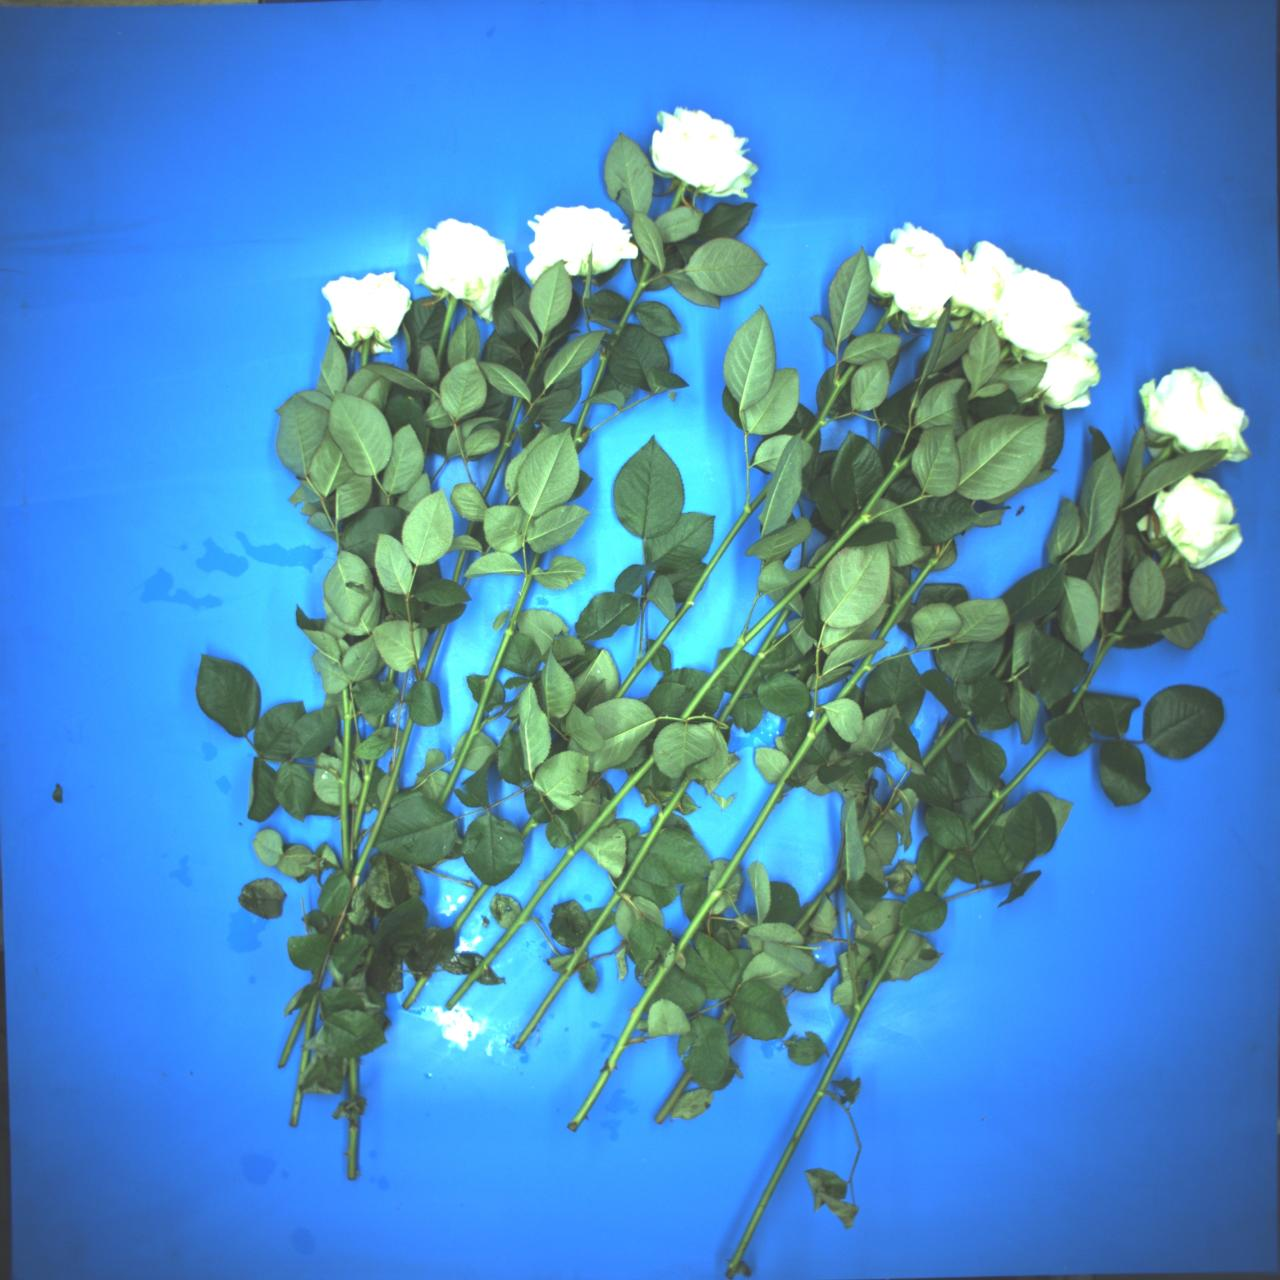Stem: (668, 445, 928, 727), (720, 921, 908, 1280), (442, 747, 659, 1014), (513, 774, 692, 1055), (670, 713, 830, 962), (611, 474, 775, 708), (436, 550, 544, 810), (566, 962, 672, 1132), (348, 714, 416, 894), (714, 607, 794, 724), (964, 736, 1056, 831), (873, 535, 953, 644), (1062, 606, 1135, 716), (475, 396, 531, 499), (803, 359, 859, 447), (602, 259, 658, 347), (918, 707, 974, 769), (343, 756, 377, 857), (336, 686, 354, 878), (792, 870, 846, 932), (829, 649, 884, 704), (857, 794, 903, 850), (449, 880, 491, 934), (278, 1000, 309, 1068), (654, 1069, 693, 1124), (919, 846, 959, 894), (429, 298, 457, 366), (421, 622, 448, 681), (583, 349, 611, 401), (401, 972, 430, 1009), (571, 402, 591, 450), (523, 350, 545, 388), (347, 1114, 359, 1180), (992, 648, 1016, 680), (304, 992, 318, 1044), (290, 1087, 305, 1126), (872, 311, 893, 335), (517, 816, 538, 840), (452, 550, 467, 584), (670, 185, 686, 211), (1158, 549, 1175, 572), (349, 1058, 359, 1097), (719, 1005, 735, 1026), (360, 338, 370, 369), (299, 1049, 311, 1077), (377, 710, 388, 731), (465, 519, 476, 537), (387, 668, 394, 682)
flower: (975, 253, 1103, 379), (636, 96, 770, 210), (400, 204, 525, 321), (853, 213, 974, 334), (1131, 359, 1260, 461), (1143, 465, 1254, 581), (517, 197, 640, 285), (933, 233, 1027, 334), (321, 270, 415, 359), (1032, 332, 1110, 420)
